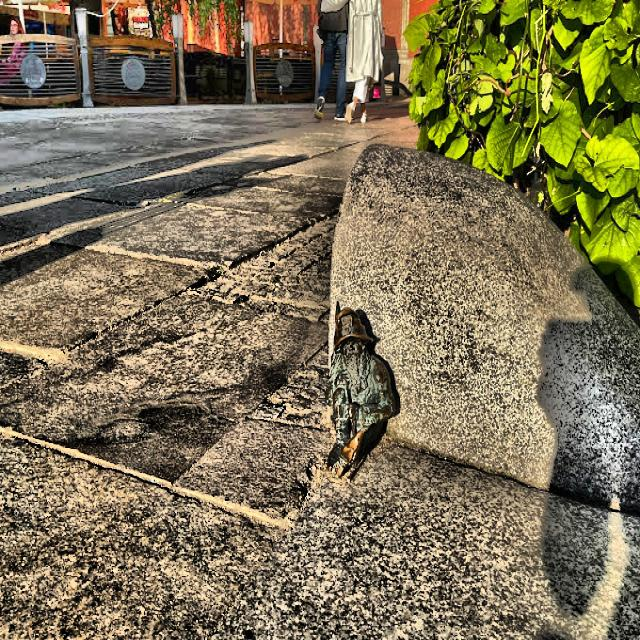Spioch: (326, 305, 395, 476)
